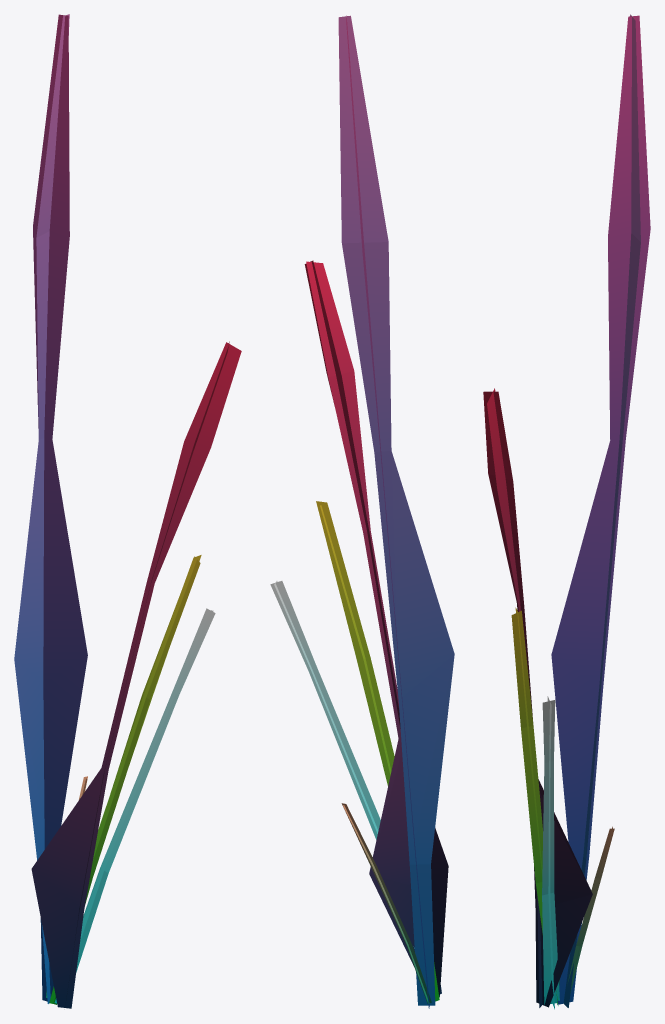
The model's file is Nordic_Coastal_Groundcover_vlqkdeaja_Mid_vlqkdeaja_VarN_LOD0.fbx.
3 renders of one model, left to right at view 1: azimuth 30°, elevation 25°; view 2: azimuth 150°, elevation 25°; view 3: azimuth 270°, elevation 25°, orthographic. The views are drawn at different scales.
Parts seen in each view (by area): view 1: _8y8r_VarN_LOD1; view 2: _8y8r_VarN_LOD1; view 3: _8y8r_VarN_LOD1.
Part boxes in pixels (x1=…): _8y8r_VarN_LOD1: x1=14, y1=14, x2=241, y2=1008; _8y8r_VarN_LOD1: x1=270, y1=15, x2=454, y2=1008; _8y8r_VarN_LOD1: x1=483, y1=14, x2=650, y2=1009.
Size of the model in its own units: 14.89 by 72.52 by 10.84.
